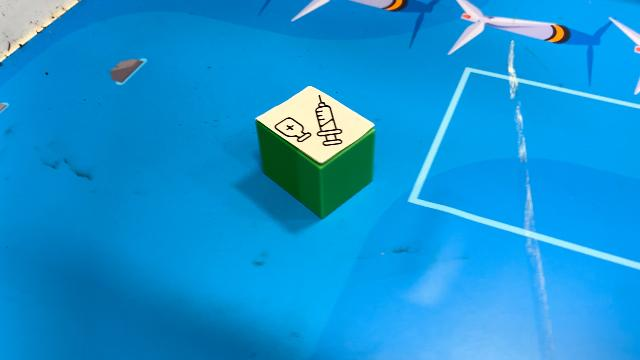syringe: (254, 85, 376, 219)
